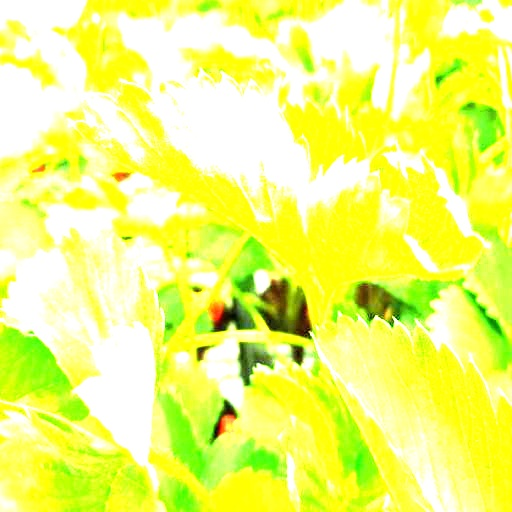Powdery Mildew Leaf: (66, 66, 369, 307), (0, 220, 166, 468), (304, 139, 494, 298)
